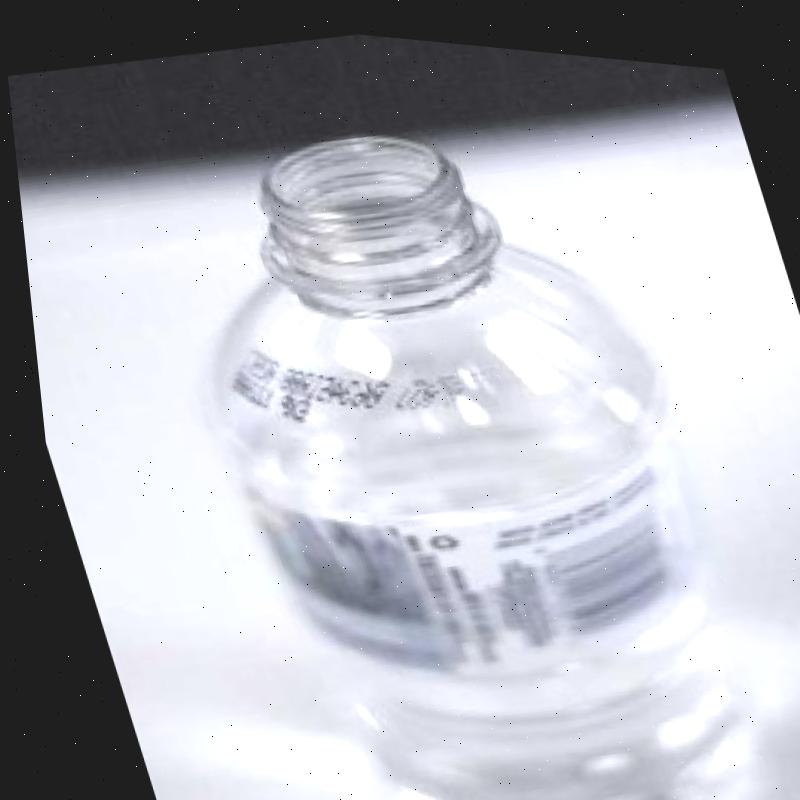botella: (126, 62, 783, 800)
